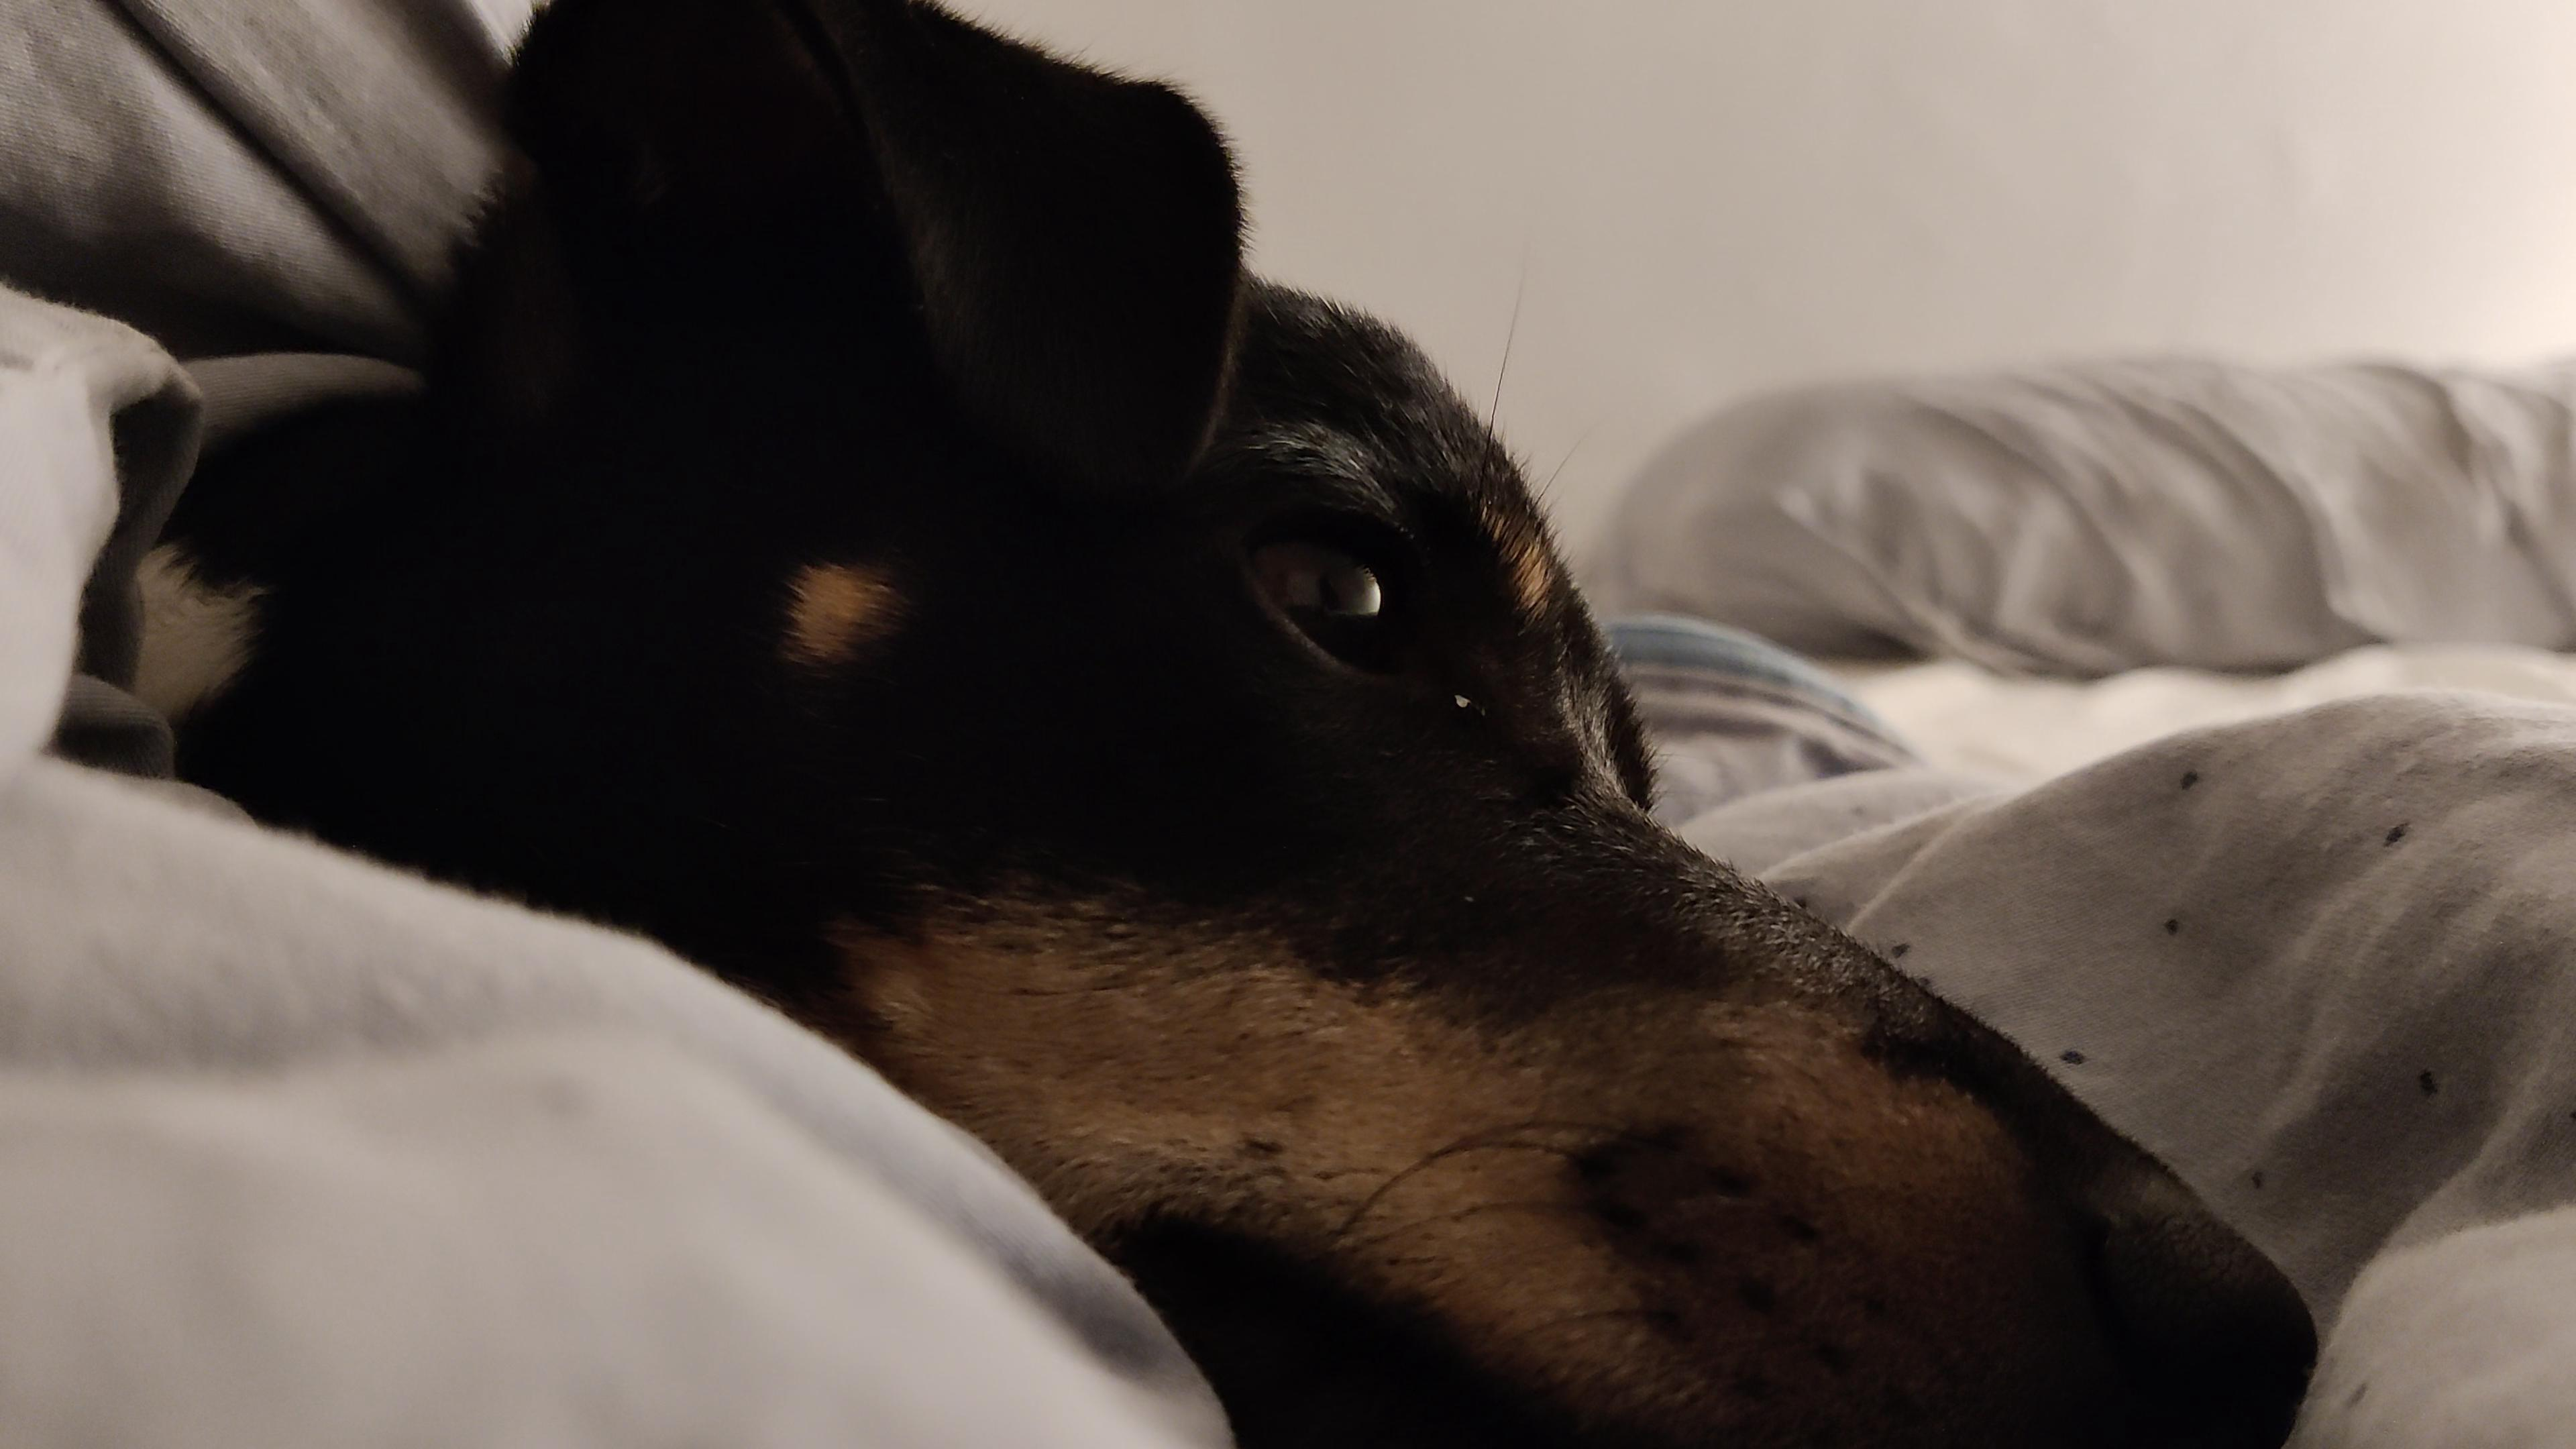Dog: (119, 0, 2328, 1449)
